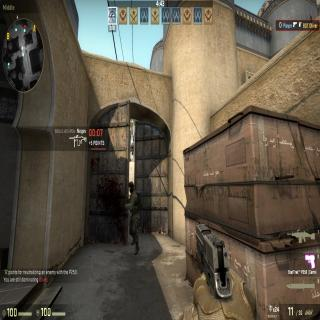CT-Body: (127, 180, 141, 253)
CT-Head: (128, 180, 135, 193)
